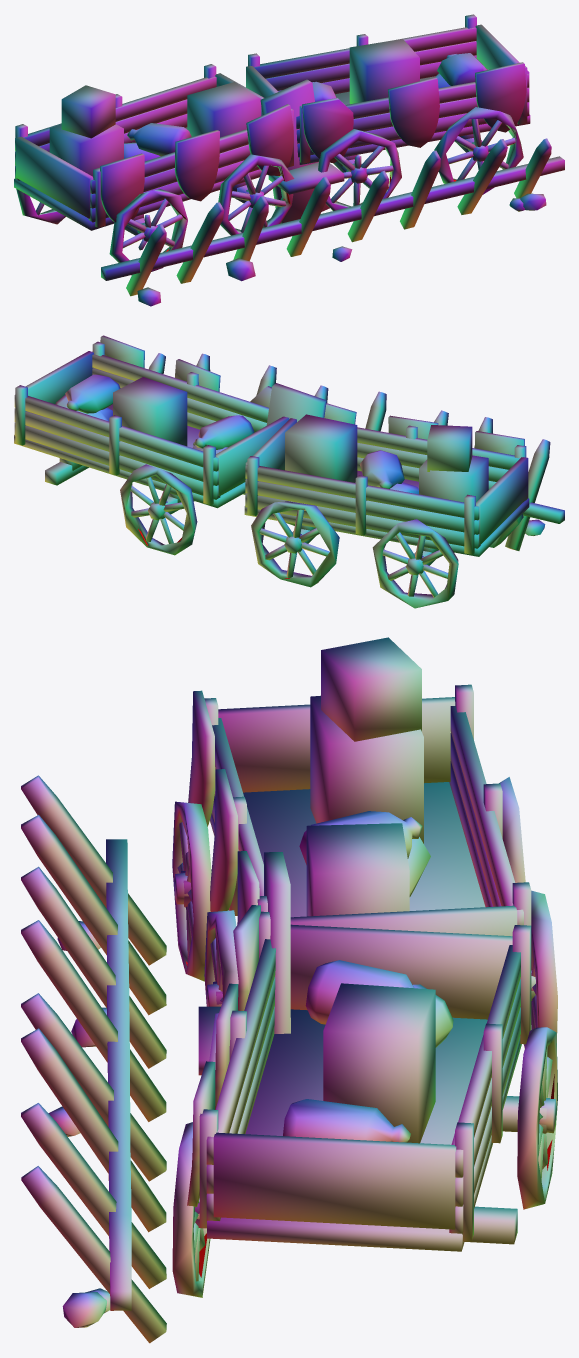
File: SM_Prop_March_WagonBarricade_LOD1.fbx
3 renders of one model, top to bottom at view 1: azimuth 30°, elevation 25°; view 2: azimuth 150°, elevation 25°; view 3: azimuth 270°, elevation 25°, orthographic. The views are drawn at different scales.
Visible parts, largest first — view 1: SM_Prop_March_WagonBarricade_LOD1; view 2: SM_Prop_March_WagonBarricade_LOD1; view 3: SM_Prop_March_WagonBarricade_LOD1.
Part boxes in pixels (left/top/right/bottom): SM_Prop_March_WagonBarricade_LOD1: left=14, top=14, right=564, bottom=306; SM_Prop_March_WagonBarricade_LOD1: left=14, top=335, right=564, bottom=608; SM_Prop_March_WagonBarricade_LOD1: left=21, top=637, right=557, bottom=1343.
Size of the model in its own units: 4.88 by 1.56 by 2.44.
